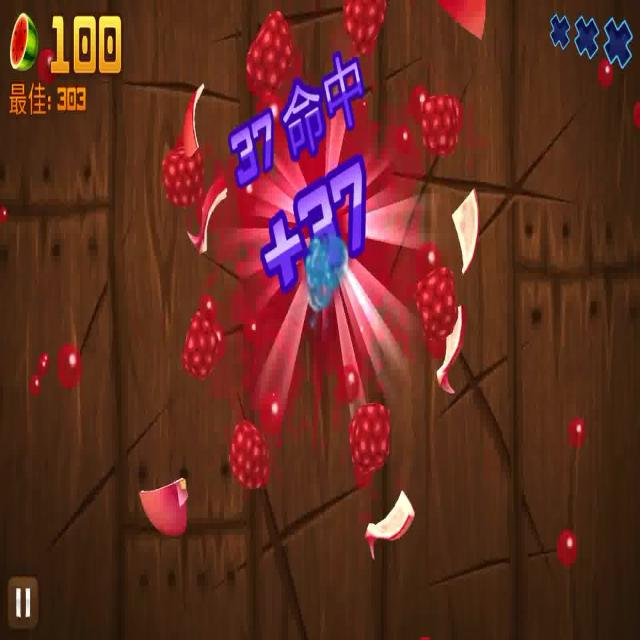fruit: (347, 396, 390, 482)
